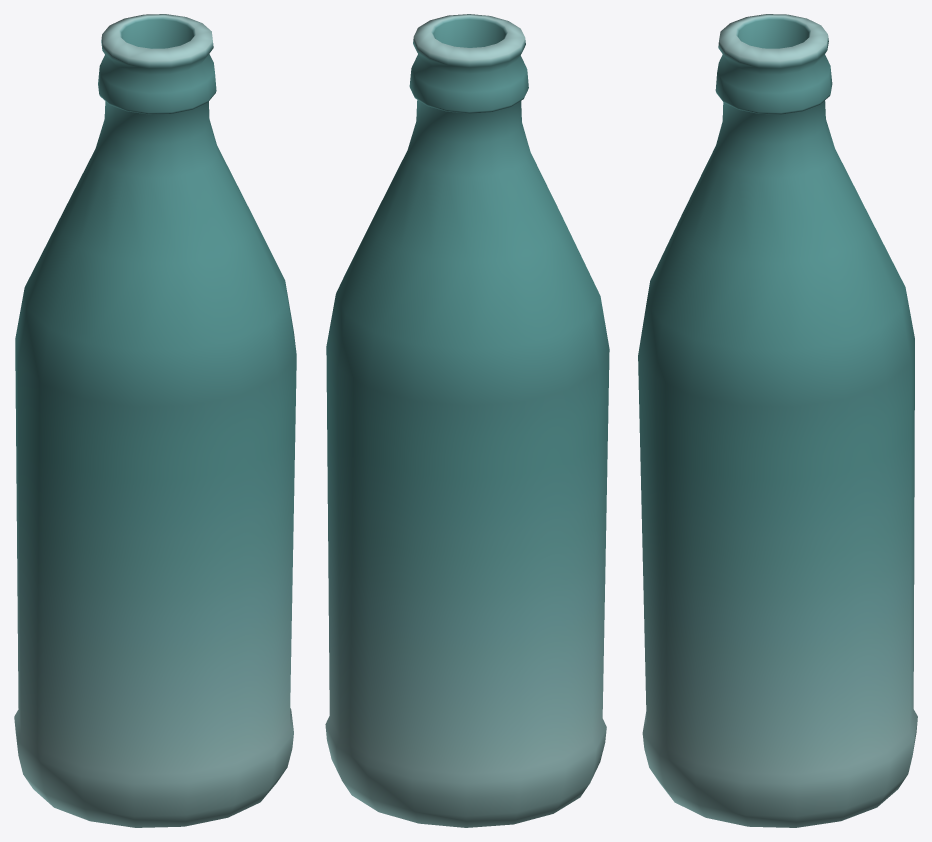
File: PP_Bottle3.fbx
The picture shows the model from 3 angles, left to right: view 1: azimuth 30°, elevation 25°; view 2: azimuth 150°, elevation 25°; view 3: azimuth 270°, elevation 25°; orthographic projection.
Visible parts, largest first — view 1: bottle_3; view 2: bottle_3; view 3: bottle_3.
Part boxes in pixels (x1,y1,x2,y2): bottle_3: [14, 14, 296, 827]; bottle_3: [325, 14, 609, 827]; bottle_3: [638, 14, 917, 827].
Bounding box in the file's own units: 10.26 × 29.92 × 10.16.
